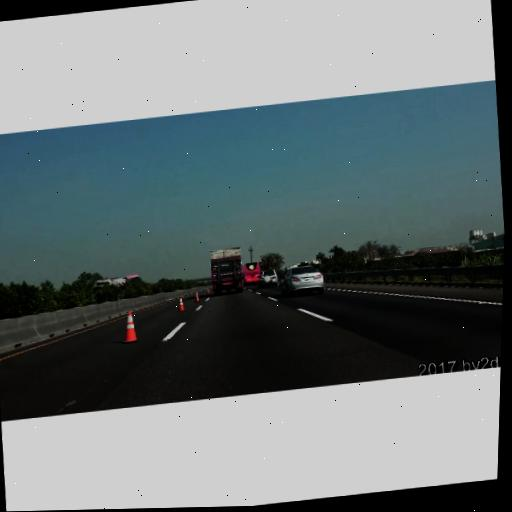Car: (208, 247, 245, 297), (277, 264, 325, 299), (257, 268, 279, 289), (241, 263, 262, 285)
